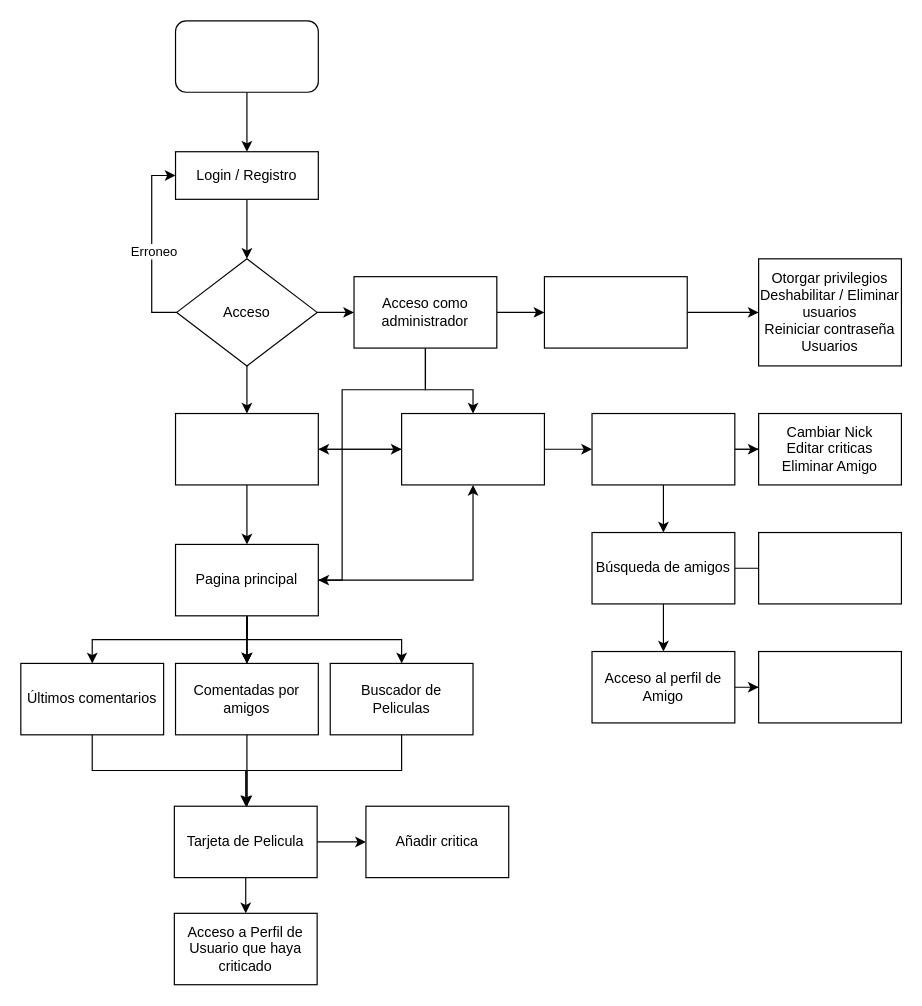
The diagram is 922 pixels wide and 1006 high, and some of its shapes have lost their labels. Here are the shapes that lost their labels. From the top down, the box of each, then its label:
(174, 20, 318, 92): Inicio
(543, 275, 687, 348): Sección de administración de usuario
(174, 412, 318, 485): Acceso a la plataforma como usuario
(400, 412, 544, 485): Acceso a Perfil
(591, 412, 735, 485): Modificar datos del perfil
(757, 531, 901, 604): Añadir Amigo
(757, 650, 901, 723): Añadir amigo de amigo
